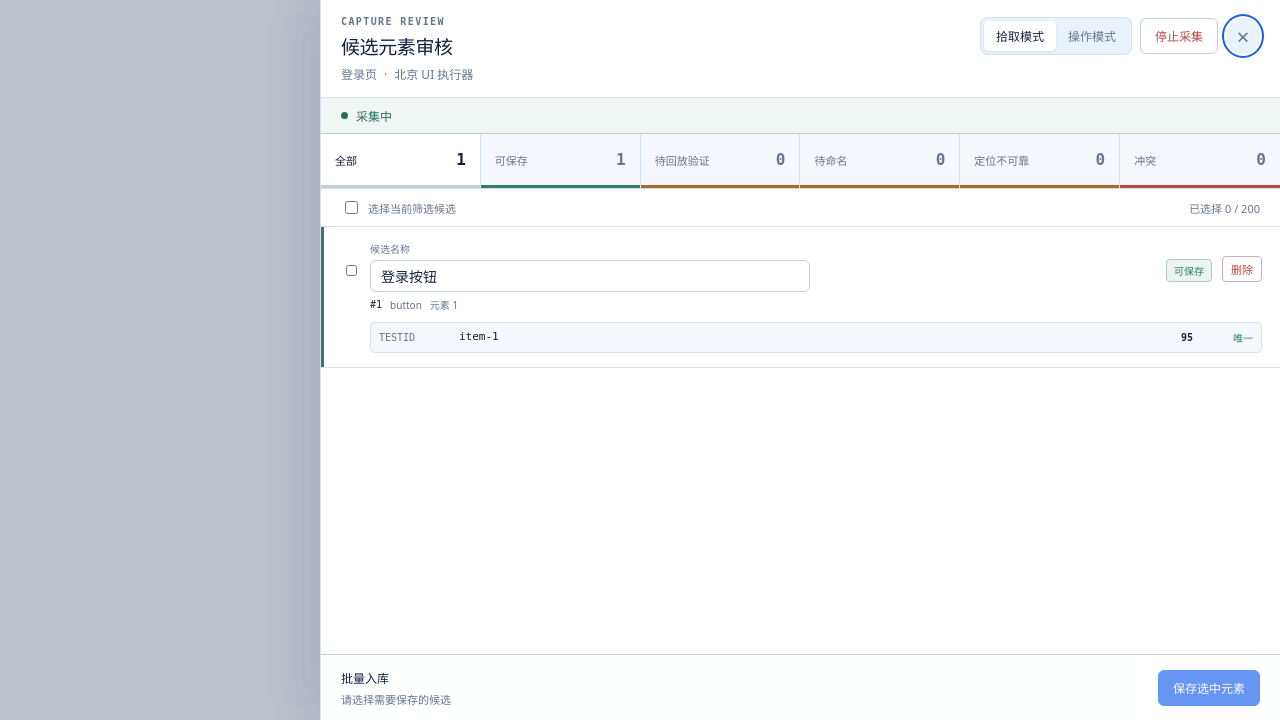
Test: ElementCaptureDrawer › 名称内联更新失败时回滚并保留可操作错误
Replace the text in the field named "候选名称 1" with "重复名称" at (590, 276), box [370, 260, 810, 292]
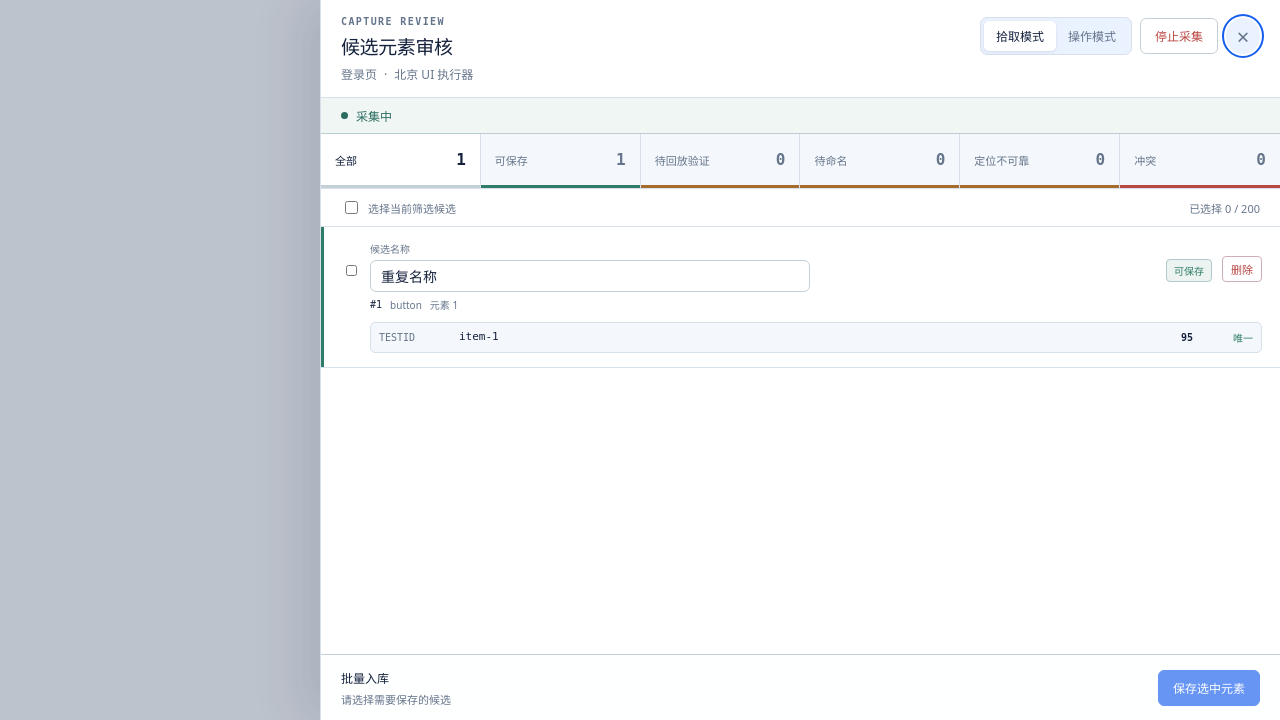
Leave the field named "候选名称 1", box [370, 260, 810, 292]
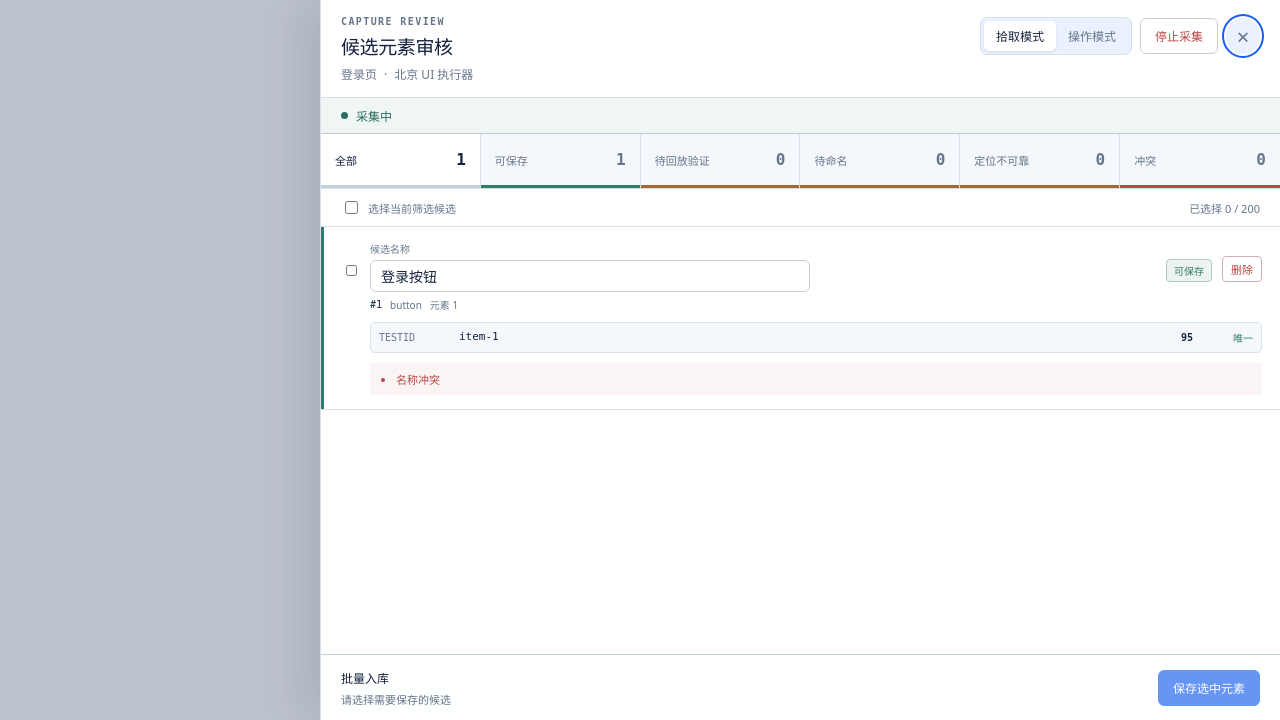
Check: the field named "候选名称 1" holds "登录按钮", box [370, 260, 810, 292]
Check: the list item "名称冲突" is shown, box [396, 372, 440, 387]
